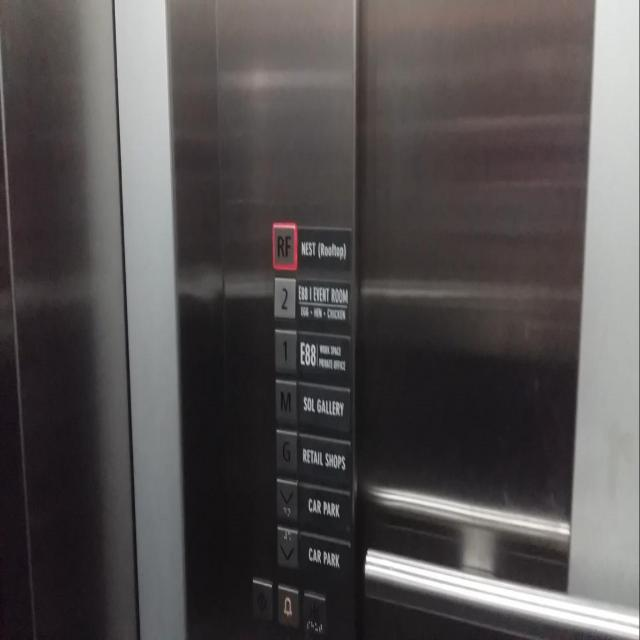1: (273, 327, 297, 372)
2: (272, 274, 297, 320)
G: (273, 425, 297, 475)
M: (273, 376, 297, 423)
RF: (270, 218, 297, 271)
alarm: (276, 582, 298, 628)
close: (301, 590, 324, 636)
down: (274, 475, 298, 523), (275, 523, 298, 569)
open: (250, 576, 273, 622)
